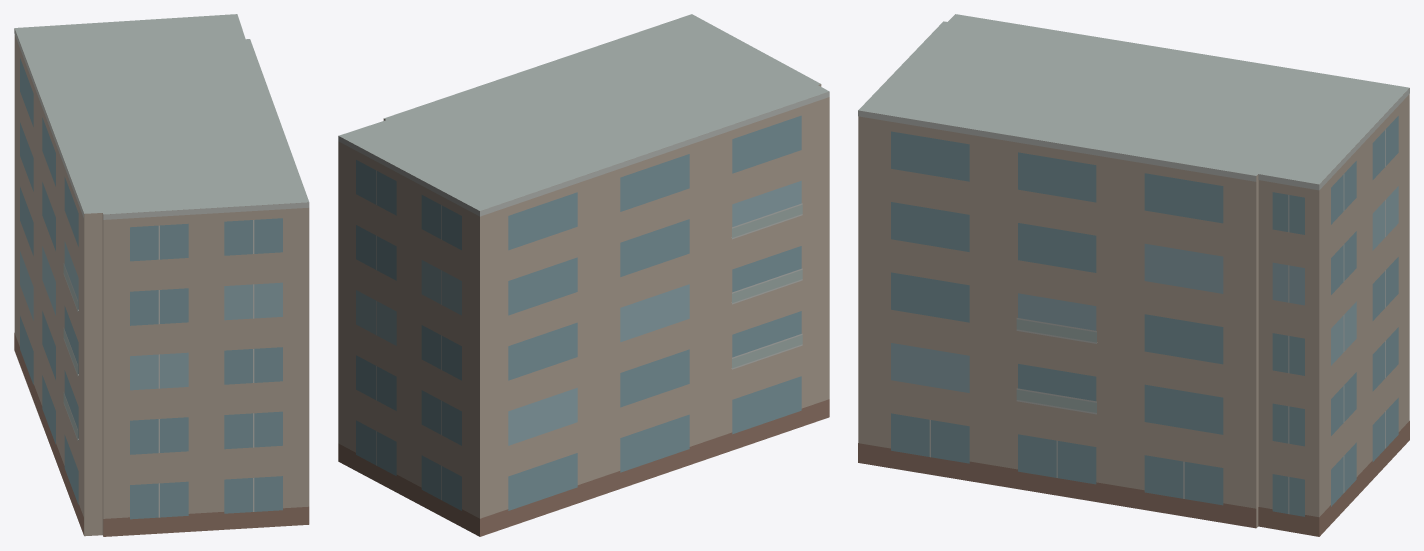
The model's file is survey-upis-32653927.glb.
The picture shows the model from 3 angles, left to right: view 1: azimuth 30°, elevation 25°; view 2: azimuth 150°, elevation 25°; view 3: azimuth 270°, elevation 25°; orthographic projection. The views are drawn at different scales.
Parts seen in each view (by area): view 1: survey-upis-32653927.tmp; view 2: survey-upis-32653927.tmp; view 3: survey-upis-32653927.tmp.
Boxes of the visible parts, bbox=[...] form: survey-upis-32653927.tmp: bbox=[14, 14, 309, 536]; survey-upis-32653927.tmp: bbox=[338, 14, 829, 536]; survey-upis-32653927.tmp: bbox=[858, 14, 1409, 536].
Size of the model in its own units: 15 by 14.45 by 20.51.
